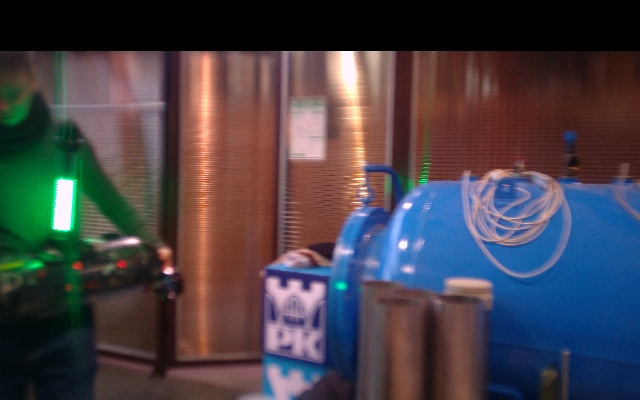green: (52, 178, 77, 233)
